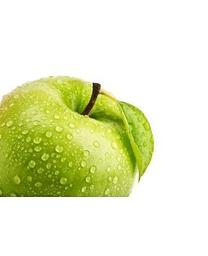apple: (0, 75, 154, 197)
